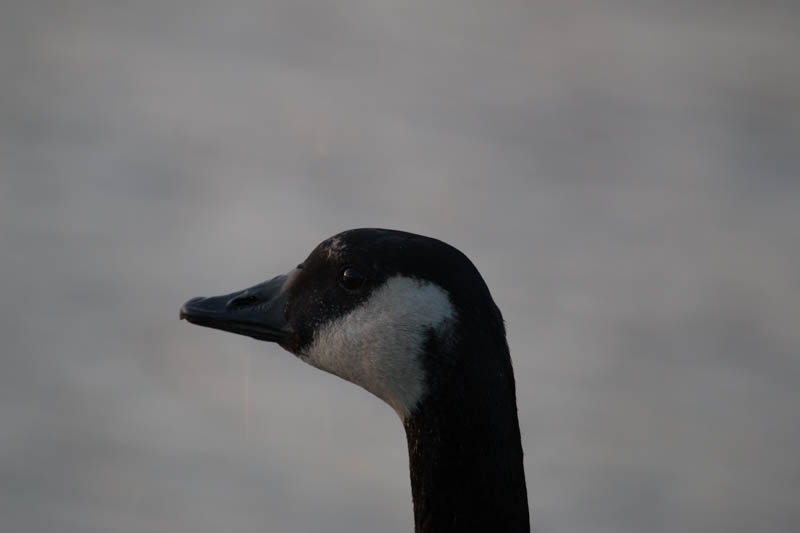goose-head: (179, 229, 518, 422)
